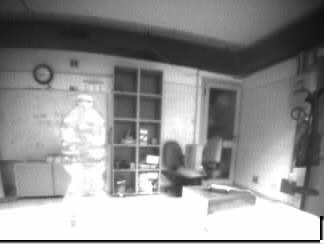Bottle: (63, 95, 107, 220)
